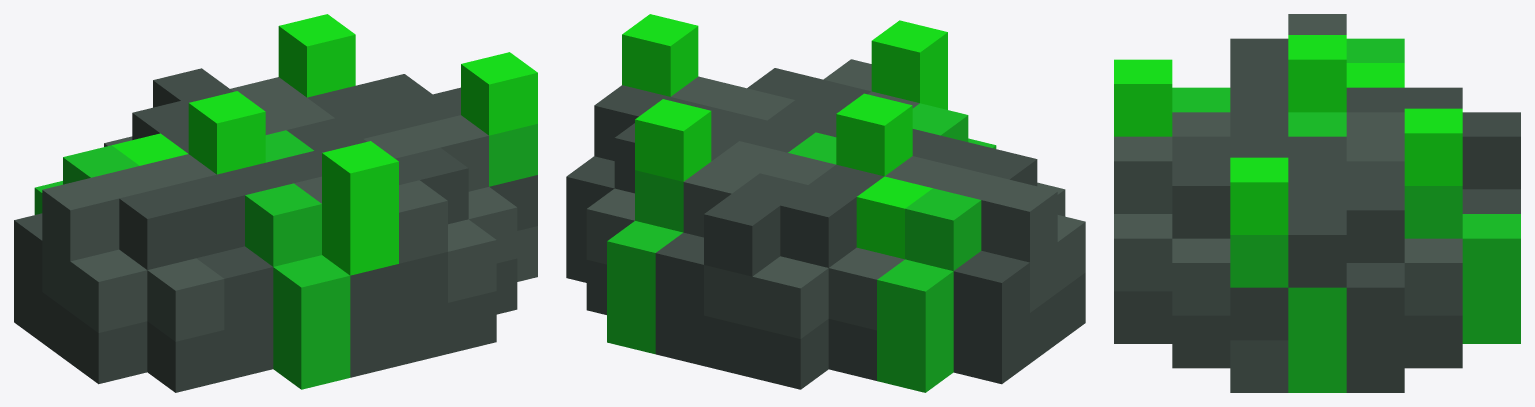
File: EmeraldDeposit_S.obj
3 views of the same model, side by side, from view 1: azimuth 30°, elevation 25°; view 2: azimuth 150°, elevation 25°; view 3: azimuth 270°, elevation 25° (orthographic). The views are drawn at different scales.
Parts seen in each view (by area): view 1: EmeraldDeposit_S; view 2: EmeraldDeposit_S; view 3: EmeraldDeposit_S.
Boxes of the visible parts, left/top/right/bottom form: EmeraldDeposit_S: left=14, top=14, right=537, bottom=392; EmeraldDeposit_S: left=566, top=14, right=1085, bottom=392; EmeraldDeposit_S: left=1114, top=14, right=1520, bottom=392.
Bounding box in the file's own units: 0.9 × 0.4 × 0.7.
1 material, 1 textured.
